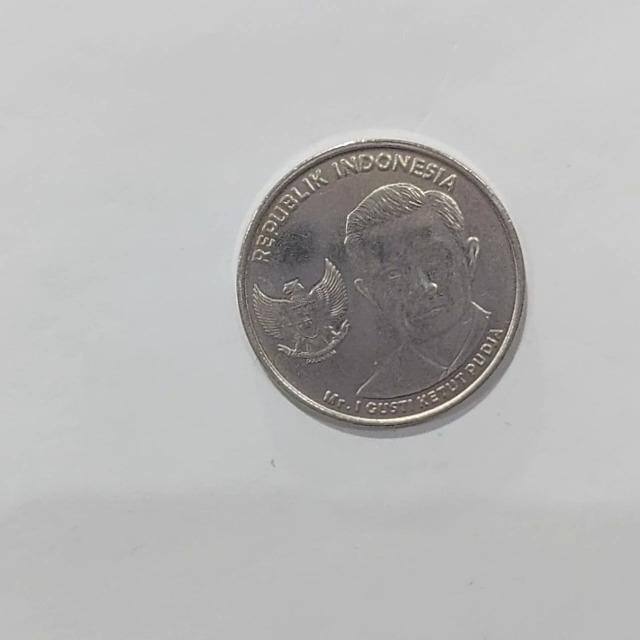Rp100: (235, 135, 528, 433)
